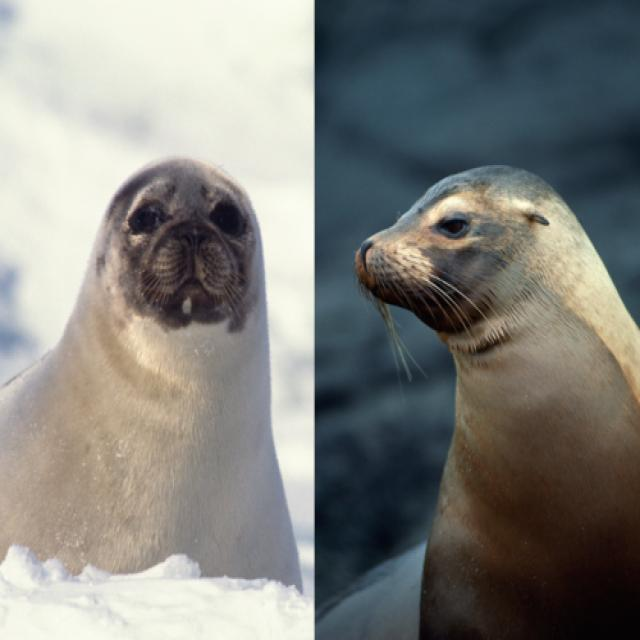WaterDog: (348, 157, 640, 638), (0, 146, 278, 585)
